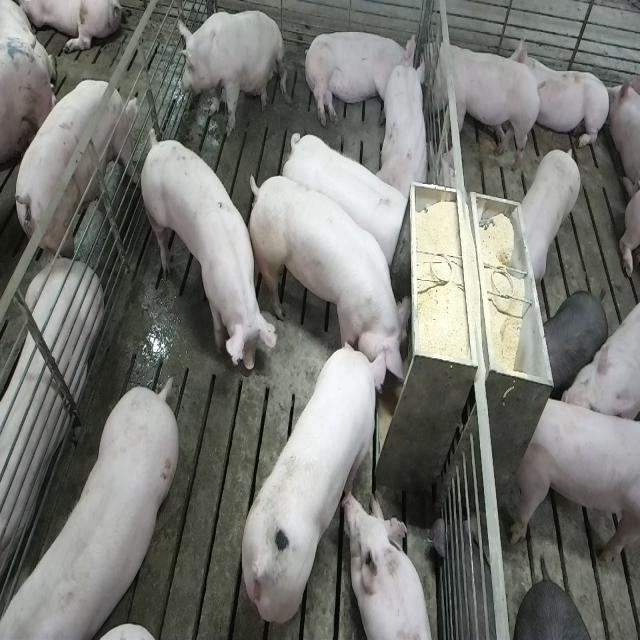Feeding: (239, 338, 390, 626), (252, 173, 417, 398)
Lateral_lying: (0, 260, 101, 605), (302, 29, 418, 128)
Sitting: (179, 8, 286, 138)
Standing: (6, 381, 182, 640), (136, 124, 272, 377), (8, 78, 136, 266), (511, 391, 638, 568), (282, 128, 411, 264), (422, 31, 542, 172), (516, 143, 583, 286), (542, 287, 608, 396)
Sternal_lying: (346, 490, 435, 640), (516, 34, 612, 156), (379, 47, 433, 202)
